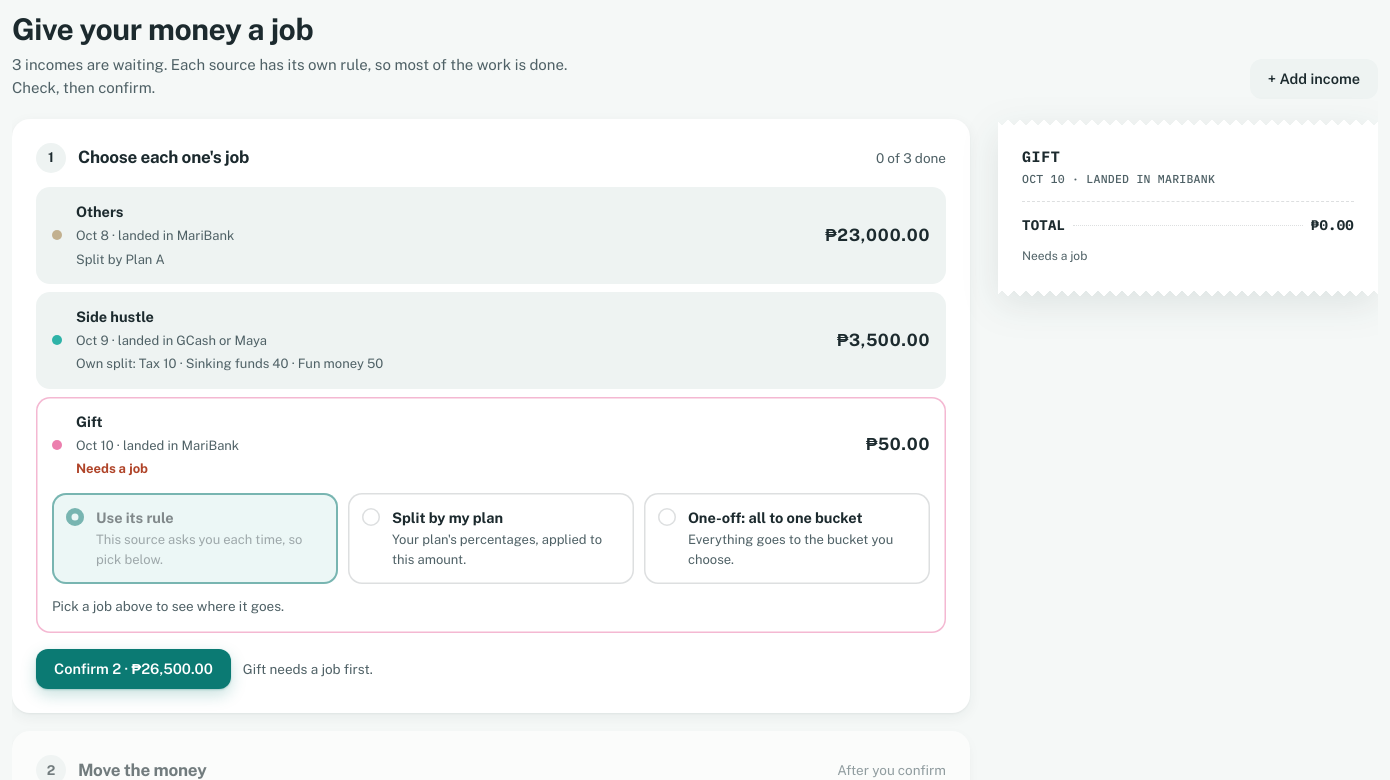
Test: Money in: confirm › a failed confirm shows the message at the control and never announces success
Click the button with test id "confirm-all" at (133, 669), box [36,649,231,689]
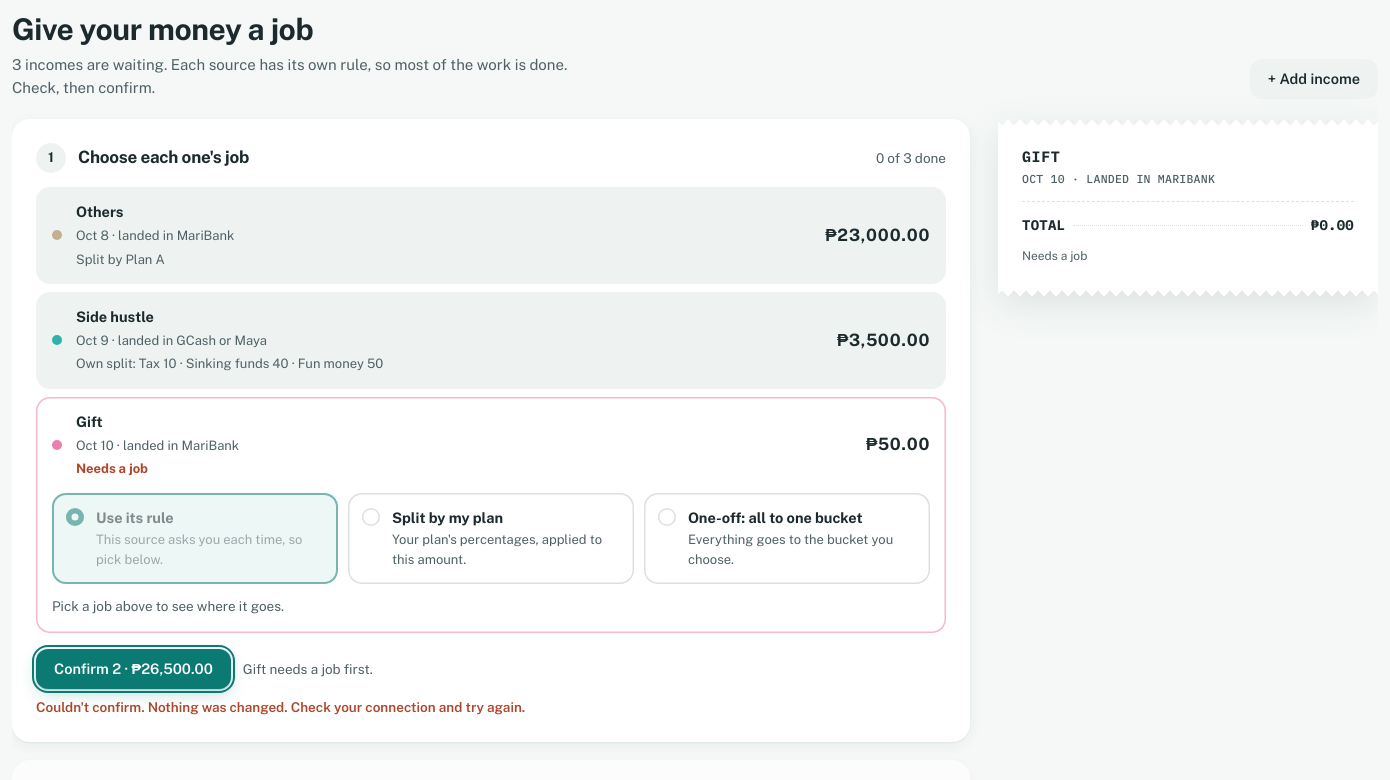
Expected: the message with test id "confirm-error" shows "Couldn't confirm. Nothing was changed.", [36,699,525,715]
